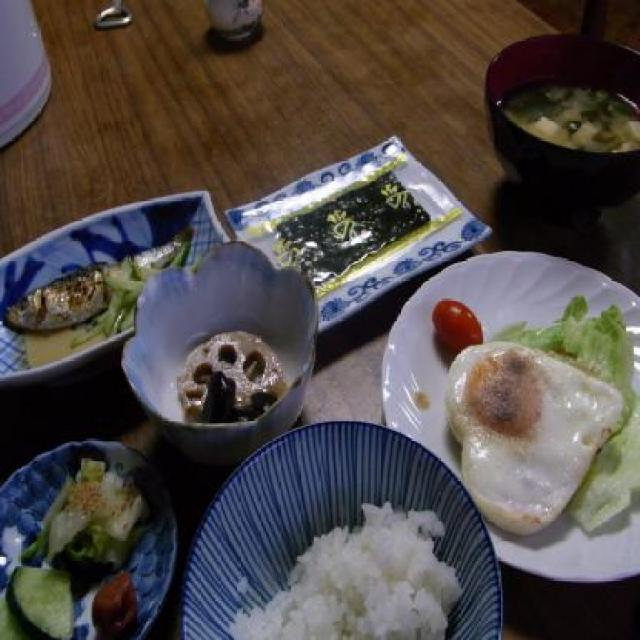Salad: (0, 435, 175, 632)
